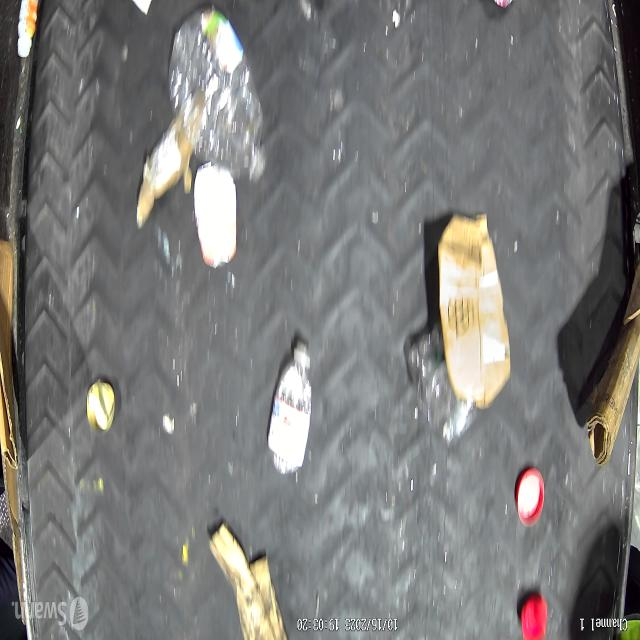can: (192, 158, 239, 272), (86, 380, 116, 434)
plastic_bottle: (168, 8, 268, 182)
